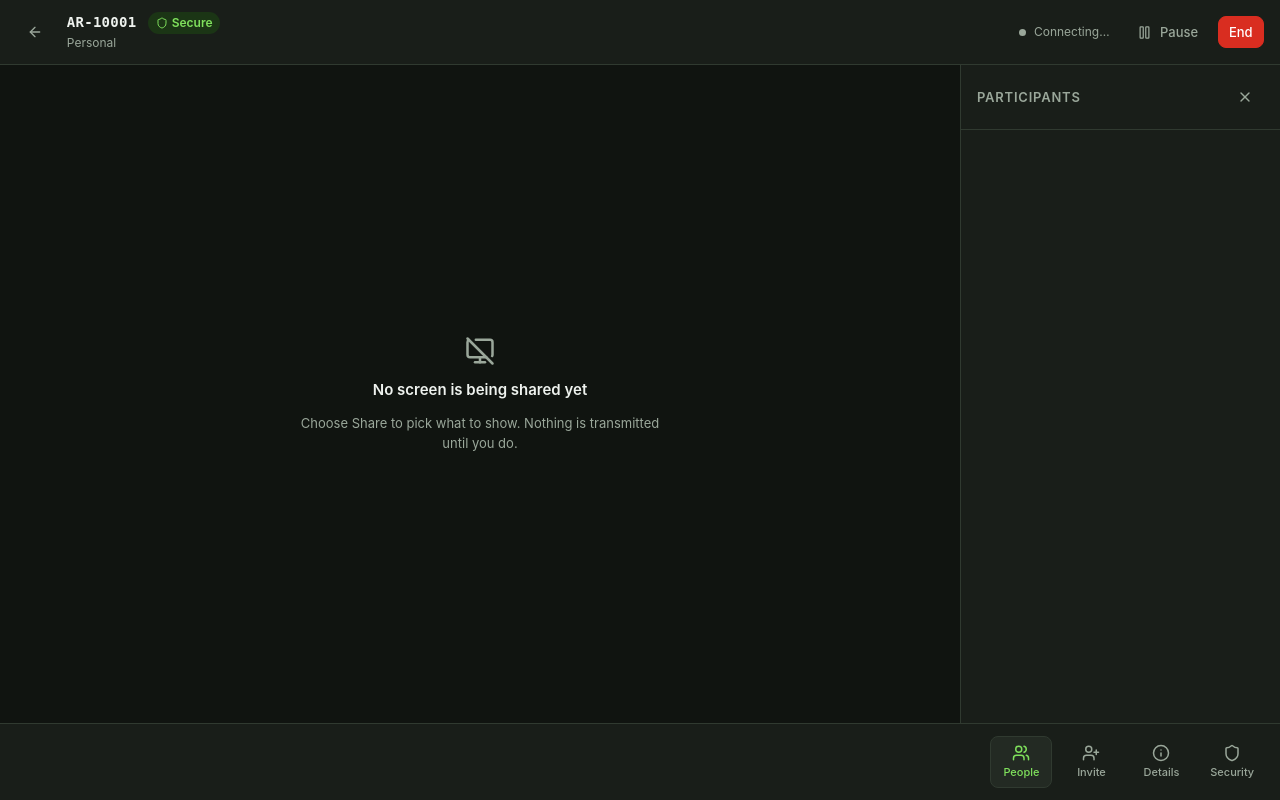
Test: the room header › says so when pausing failed
Click the button "Pause": (1168, 32) [1126,16,1210,48]
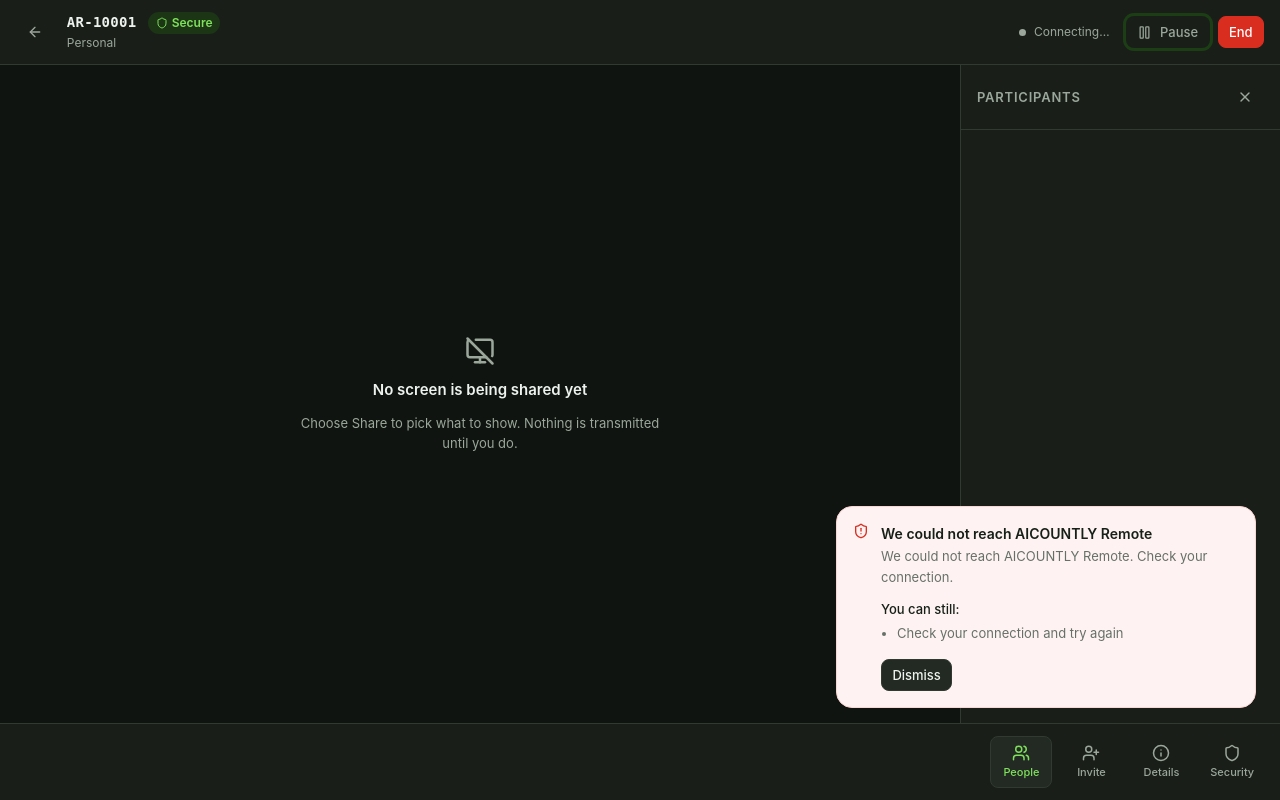
Expected: the text "We could not reach AICOUNTLY Remote. Check your connection." is shown, [881,546,1239,587]
